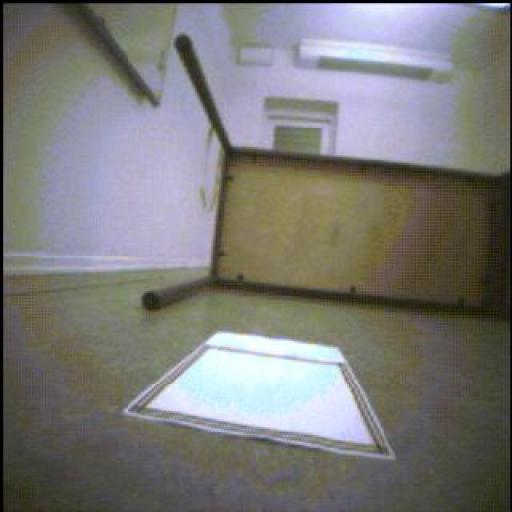Pad: (126, 334, 395, 460)
